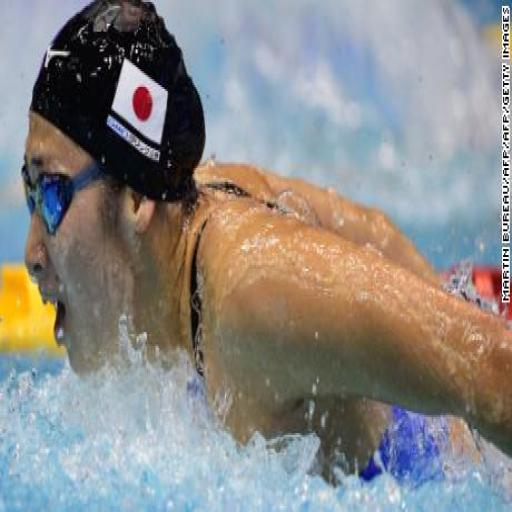swimming: (19, 0, 510, 496)
